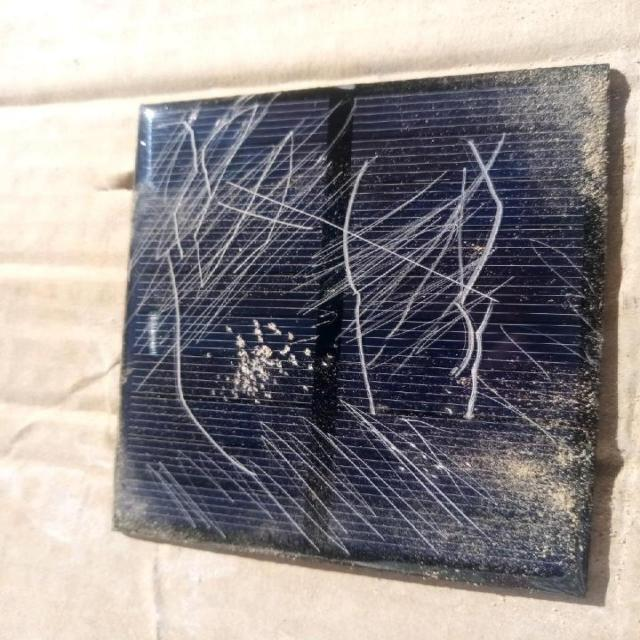faulty: (127, 101, 620, 576)
